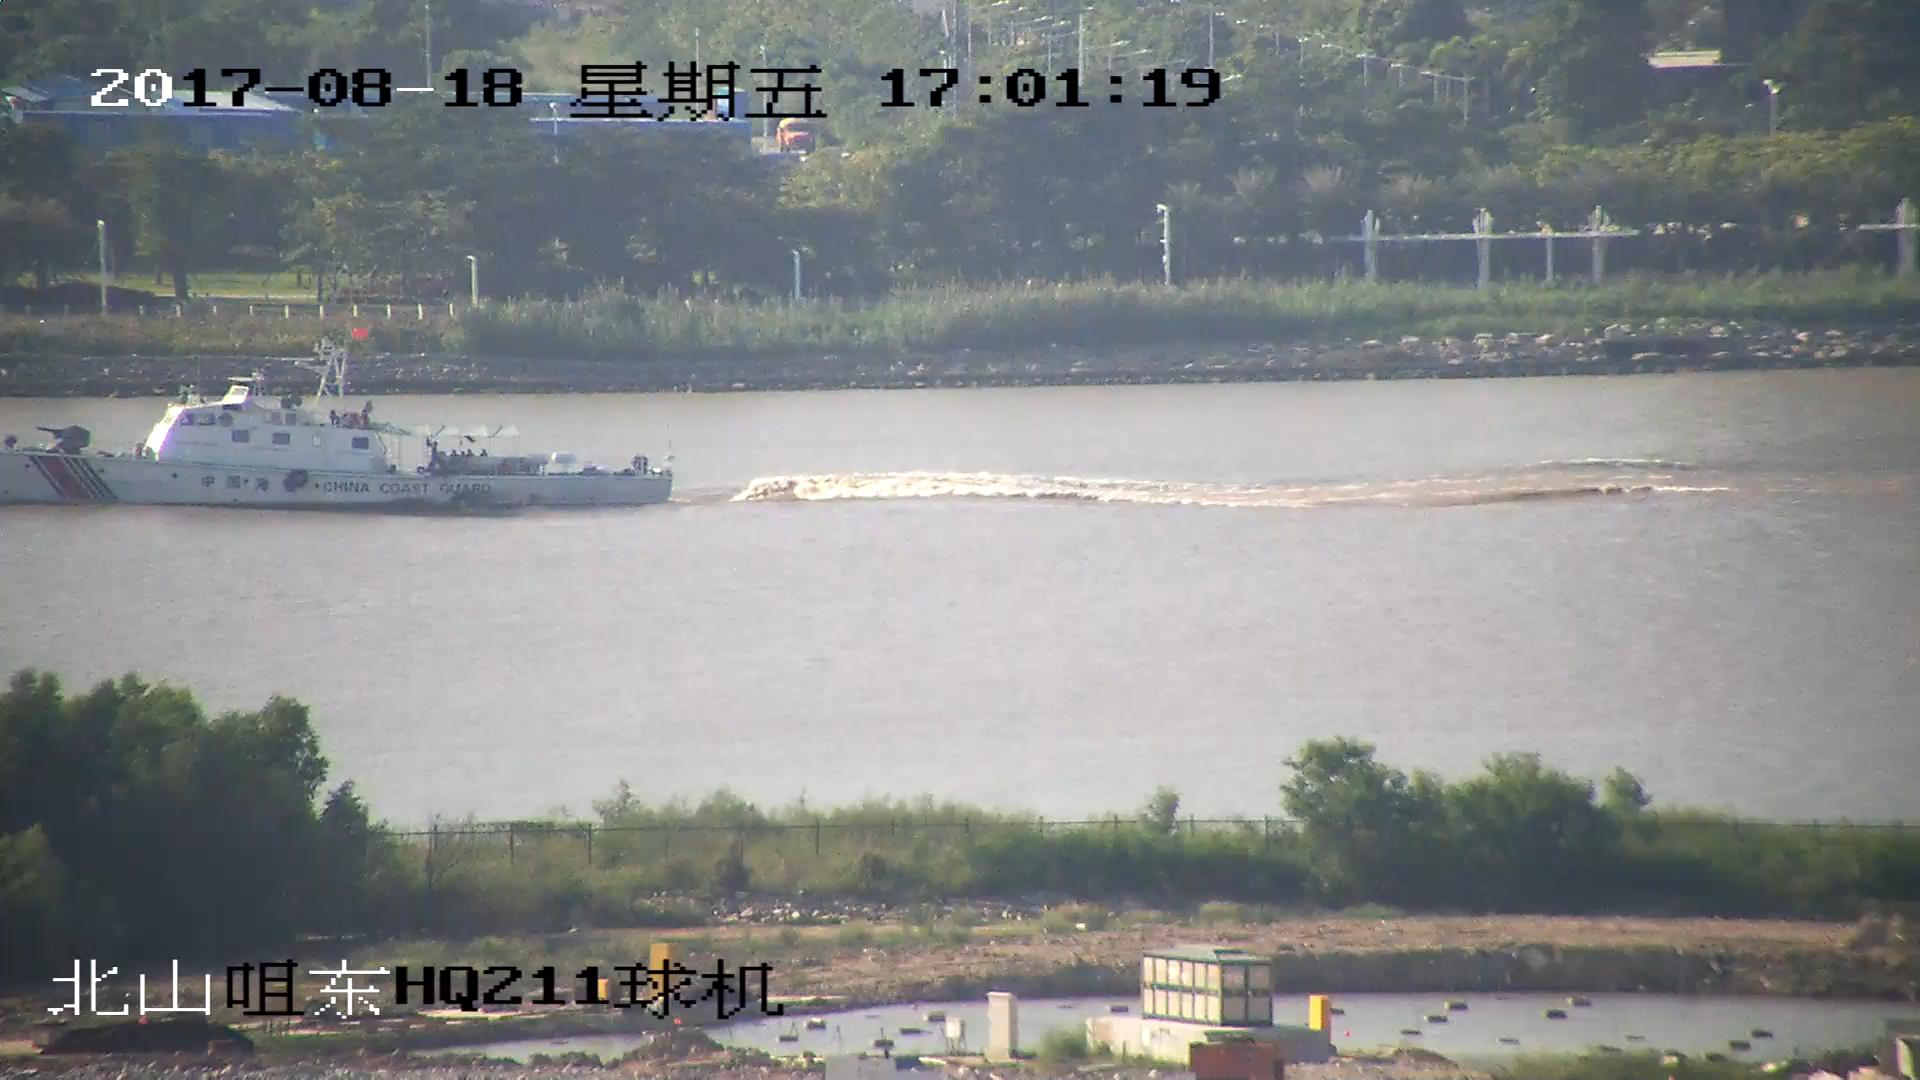passenger ship: (1, 338, 670, 512)
